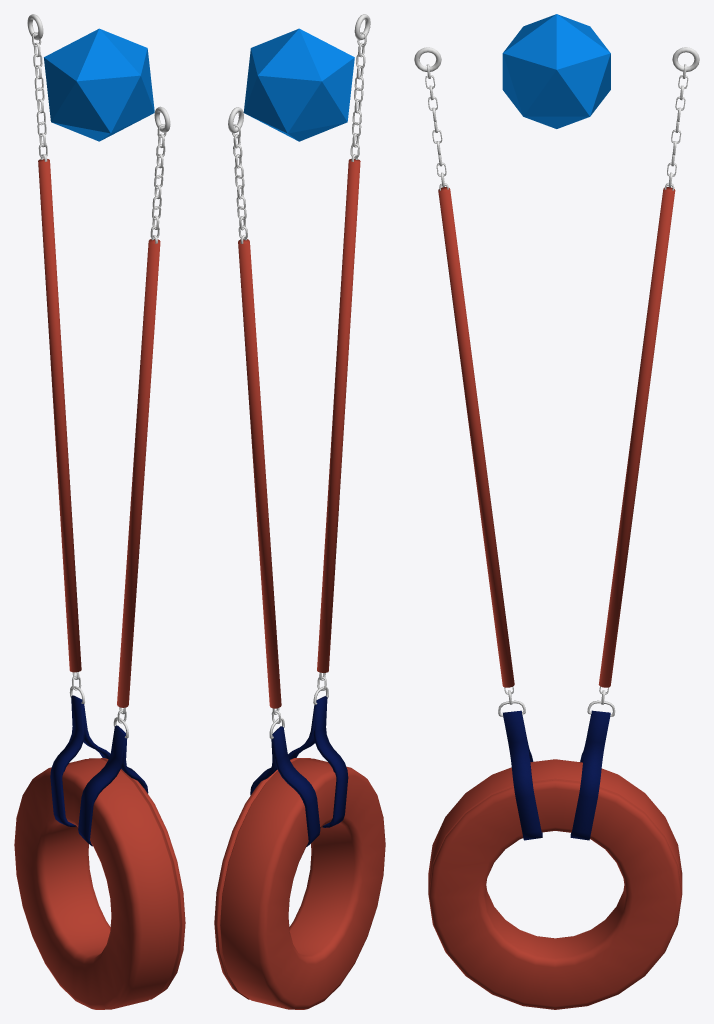
File: Vynil tire swing.glb
The picture shows the model from 3 angles, left to right: view 1: azimuth 30°, elevation 25°; view 2: azimuth 150°, elevation 25°; view 3: azimuth 270°, elevation 25°; orthographic projection.
Visible parts, largest first — view 1: Circle.002, Joint.011, Torus; view 2: Circle.002, Joint.011, Torus; view 3: Circle.002, Joint.011, Torus.
Boxes of the visible parts, bbox=[...] form: Circle.002: bbox=[14, 32, 185, 1009]; Joint.011: bbox=[44, 28, 154, 141]; Torus: bbox=[27, 14, 170, 132]; Circle.002: bbox=[214, 32, 385, 1009]; Joint.011: bbox=[243, 28, 354, 141]; Torus: bbox=[228, 14, 370, 133]; Circle.002: bbox=[425, 64, 688, 1009]; Joint.011: bbox=[502, 14, 610, 128]; Torus: bbox=[414, 47, 699, 72].
Size of the model in its own units: 0.2726 by 2.61 by 0.6847.
Materials: 5 (1 with a texture image).
